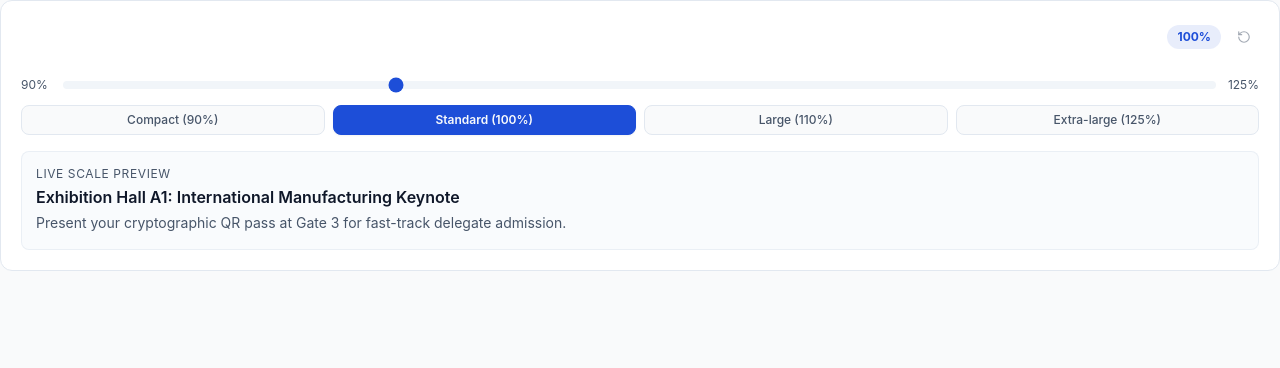
Test: UI/UX Settings Suite Component Selectors › FontScaleSlider adjusts font scale via slider and presets
The image size is (1280, 368).
Expected: the slider is shown, x1=63 y1=81 x2=1216 y2=89
Click the button "Extra-large (125%)" at coordinates (1107, 120), box x1=956 y1=105 x2=1259 y2=135
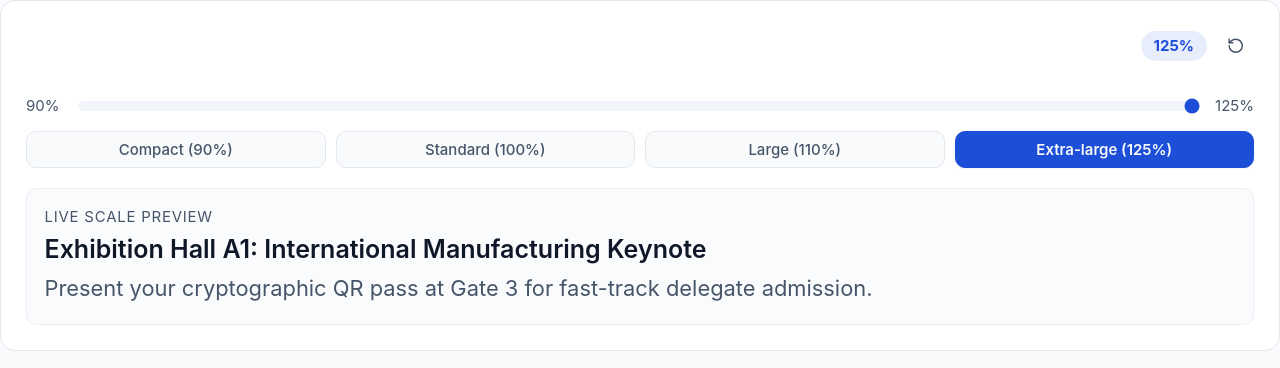
Result: the 1st text "125%" is shown at x1=1141 y1=31 x2=1206 y2=61
